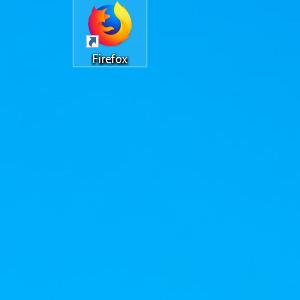firefox: (86, 1, 132, 48)
